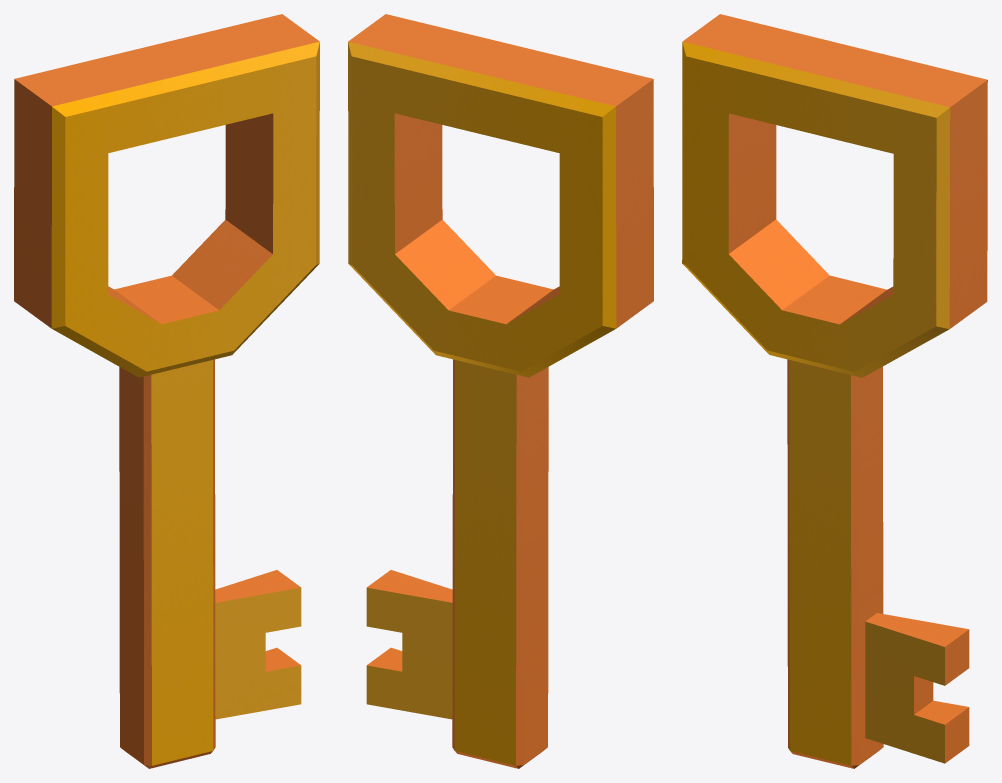
Rendered from BORRAR3.fbx.
3 views of the same model, side by side, from view 1: azimuth 30°, elevation 25°; view 2: azimuth 150°, elevation 25°; view 3: azimuth 330°, elevation 25° (orthographic).
Visible parts, largest first — view 1: SM_Llave; view 2: SM_Llave; view 3: SM_Llave.
Part boxes in pixels (x1,y1,x2,y2): SM_Llave: [14, 14, 319, 768]; SM_Llave: [348, 14, 653, 768]; SM_Llave: [682, 14, 987, 768].
Bounding box in the file's own units: 8.17 × 20.16 × 2.51.
1 material, 1 textured.
